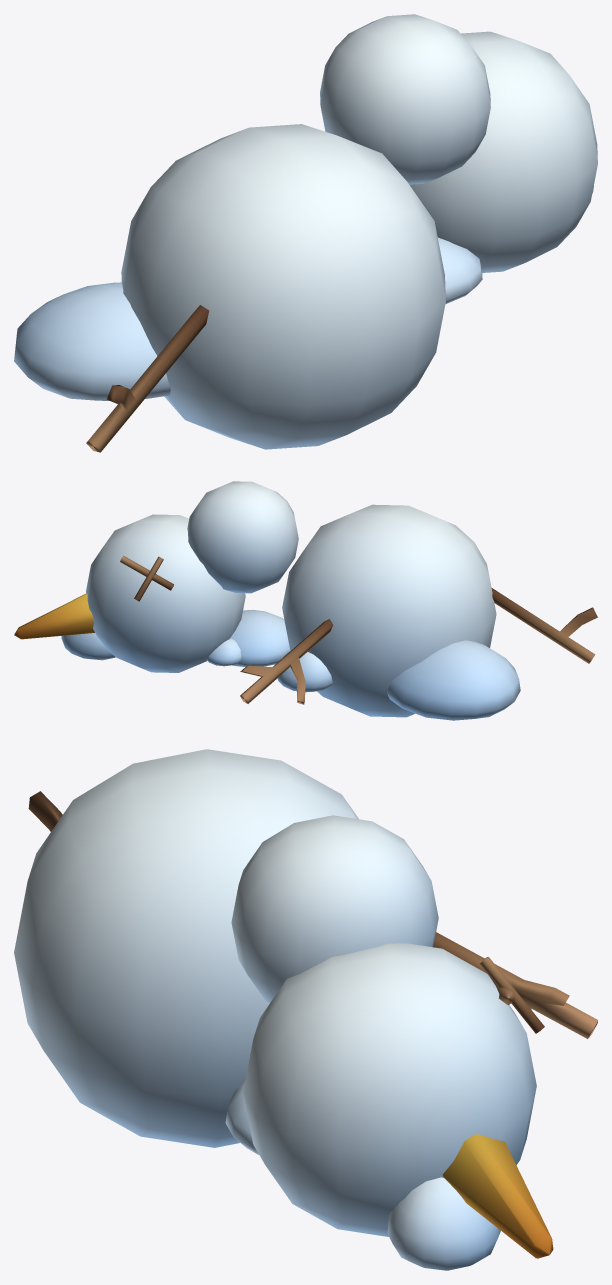
File: muñecodeNieveRaton_V2.fbx
3 views of the same model, one above another, from view 1: azimuth 30°, elevation 25°; view 2: azimuth 150°, elevation 25°; view 3: azimuth 270°, elevation 25° (orthographic). The views are drawn at different scales.
Visible parts, largest first — view 1: Cube.013, Cube.010, Cube.015, Cube.016, Cylinder.009, Cube.012; view 2: Cube.013, Cube.010, Cube.015, Cube.016, Cube.012, Cylinder.006, Cube.011, Cylinder.009, Cube.014, Cube.017, Cube.018, Cylinder.007 (+1 smaller); view 3: Cube.013, Cube.010, Cube.015, Cube.017, Cube.011, Cylinder.006, Cube.012, Cylinder.008, Cylinder.009.
Part boxes in pixels (x1,y1,x2,y2): Cube.013: (121,124,445,449); Cube.010: (409,31,597,272); Cube.015: (320,14,490,184); Cube.016: (14,282,170,400); Cylinder.009: (86,305,209,452); Cube.012: (437,237,482,304); Cube.013: (282,504,496,717); Cube.010: (86,514,245,672); Cube.015: (187,481,298,593); Cube.016: (387,640,520,720); Cube.012: (230,609,290,666); Cylinder.006: (240,619,333,704); Cube.011: (14,593,94,639); Cylinder.009: (491,588,597,663); Cube.014: (277,651,332,692); Cube.017: (61,633,115,660); Cube.018: (207,638,241,666); Cylinder.007: (120,556,173,590); Cube.013: (14,749,358,1147); Cube.010: (243,943,536,1236); Cube.015: (231,815,438,1003); Cube.017: (387,1177,500,1270); Cube.011: (442,1134,553,1258); Cylinder.006: (433,932,597,1038); Cube.012: (225,1082,258,1154); Cylinder.008: (480,957,544,1033); Cylinder.009: (28,791,62,831).
Size of the model in its own units: 414 by 191 by 250.
